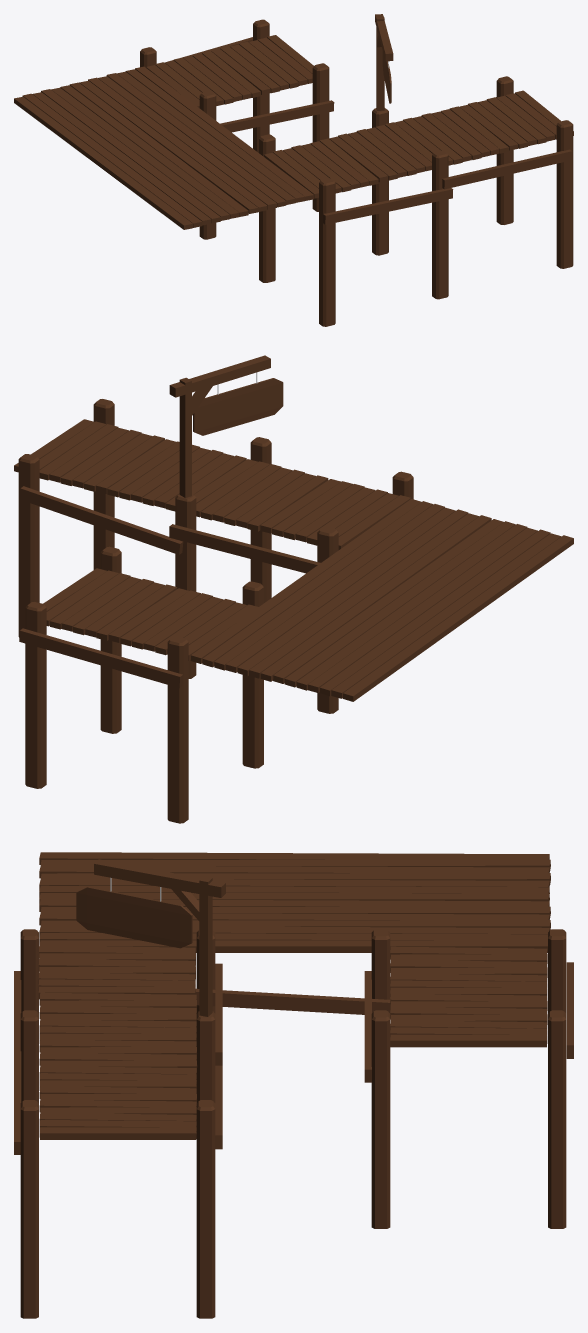
The model's file is Dock.fbx.
3 renders of one model, top to bottom at view 1: azimuth 30°, elevation 25°; view 2: azimuth 150°, elevation 25°; view 3: azimuth 270°, elevation 25°, orthographic. The views are drawn at different scales.
Parts seen in each view (by area): view 1: Pole.001|Cube.113|Dupli|, Board Section.001|Cube|Dupli|0.3, Pole.007|Cube.113|Dupli|, Pole.005|Cube.113|Dupli|, Board Section.008|Cube|Dupli|0.3, Board Section.001|Cube|Dupli|0.1, Board Section.008|Cube|Dupli|0.1, Board Section.008|Cube|Dupli|0.2, Board Section.001|Cube|Dupli|0.6, Board Section.001|Cube|Dupli|0.5, Board Section.008|Cube|Dupli|0.5, Board Section.008|Cube|Dupli| (+57 smaller); view 2: Pole.008|Cube.113|Dupli|, Board Section.001|Cube|Dupli|0.3, Pole.006|Cube.113|Dupli|, Cube.002, Pole.002|Cube.113|Dupli|, Cube.001, Board Section.008|Cube|Dupli|0.3, Board Section.008|Cube|Dupli|0.1, Board Section.001|Cube|Dupli|0.1, Board Section.001|Cube|Dupli|, Board Section.001|Cube|Dupli|0.5, Board Section.008|Cube|Dupli|0.5 (+58 smaller); view 3: Cube.002, Pole.002|Cube.113|Dupli|, Pole.004|Cube.113|Dupli|, Cube.001, Board Section.008|Cube|Dupli|0.6, Pole.001|Cube.113|Dupli|, Pole.006|Cube.113|Dupli|, Board Section.001|Cube|Dupli|0.3, Board Section.001|Cube|Dupli|0.2, Board Section.001|Cube|Dupli|, Board Section.001|Cube|Dupli|0.6, Board Section.001|Cube|Dupli|0.4 (+61 smaller).
Boxes of the visible parts, x1=… form: Pole.001|Cube.113|Dupli|: x1=556, y1=120, x2=573, y2=268; Board Section.001|Cube|Dupli|0.3: x1=14, y1=96, x2=192, y2=229; Pole.007|Cube.113|Dupli|: x1=319, y1=178, x2=335, y2=326; Pole.005|Cube.113|Dupli|: x1=432, y1=150, x2=448, y2=299; Board Section.008|Cube|Dupli|0.3: x1=79, y1=80, x2=258, y2=213; Board Section.001|Cube|Dupli|0.1: x1=41, y1=89, x2=220, y2=223; Board Section.008|Cube|Dupli|0.1: x1=106, y1=73, x2=286, y2=207; Board Section.008|Cube|Dupli|0.2: x1=88, y1=77, x2=267, y2=211; Board Section.001|Cube|Dupli|0.6: x1=69, y1=82, x2=248, y2=216; Board Section.001|Cube|Dupli|0.5: x1=60, y1=85, x2=239, y2=218; Board Section.008|Cube|Dupli|0.5: x1=125, y1=69, x2=304, y2=202; Board Section.008|Cube|Dupli|: x1=98, y1=76, x2=276, y2=209; Pole.008|Cube.113|Dupli|: x1=167, y1=636, x2=188, y2=823; Board Section.001|Cube|Dupli|0.3: x1=343, y1=535, x2=573, y2=701; Pole.006|Cube.113|Dupli|: x1=25, y1=602, x2=46, y2=788; Cube.002: x1=193, y1=378, x2=283, y2=435; Pole.002|Cube.113|Dupli|: x1=18, y1=454, x2=39, y2=637; Cube.001: x1=169, y1=355, x2=270, y2=497; Board Section.008|Cube|Dupli|0.3: x1=260, y1=515, x2=491, y2=681; Board Section.008|Cube|Dupli|0.1: x1=225, y1=507, x2=455, y2=672; Board Section.001|Cube|Dupli|0.1: x1=308, y1=527, x2=537, y2=692; Board Section.001|Cube|Dupli|: x1=320, y1=529, x2=550, y2=696; Board Section.001|Cube|Dupli|0.5: x1=284, y1=521, x2=515, y2=687; Board Section.008|Cube|Dupli|0.5: x1=202, y1=501, x2=433, y2=667; Cube.002: x1=76, y1=886, x2=192, y2=948; Pole.002|Cube.113|Dupli|: x1=196, y1=1100, x2=215, y2=1318; Pole.004|Cube.113|Dupli|: x1=371, y1=1010, x2=390, y2=1228; Cube.001: x1=94, y1=859, x2=225, y2=1016; Board Section.008|Cube|Dupli|0.6: x1=39, y1=940, x2=547, y2=952; Pole.001|Cube.113|Dupli|: x1=20, y1=1100, x2=38, y2=1318; Pole.006|Cube.113|Dupli|: x1=548, y1=1010, x2=566, y2=1228; Board Section.001|Cube|Dupli|0.3: x1=39, y1=852, x2=549, y2=864; Board Section.001|Cube|Dupli|0.2: x1=40, y1=859, x2=550, y2=871; Board Section.001|Cube|Dupli|: x1=39, y1=865, x2=549, y2=878; Board Section.001|Cube|Dupli|0.6: x1=39, y1=893, x2=549, y2=904; Board Section.001|Cube|Dupli|0.4: x1=39, y1=878, x2=549, y2=890.
Size of the model in its own units: 273 by 156 by 229.
